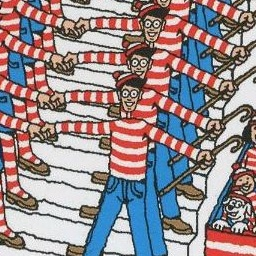waldo: (92, 72, 163, 184), (132, 4, 168, 45), (113, 73, 141, 117), (123, 42, 152, 81)
